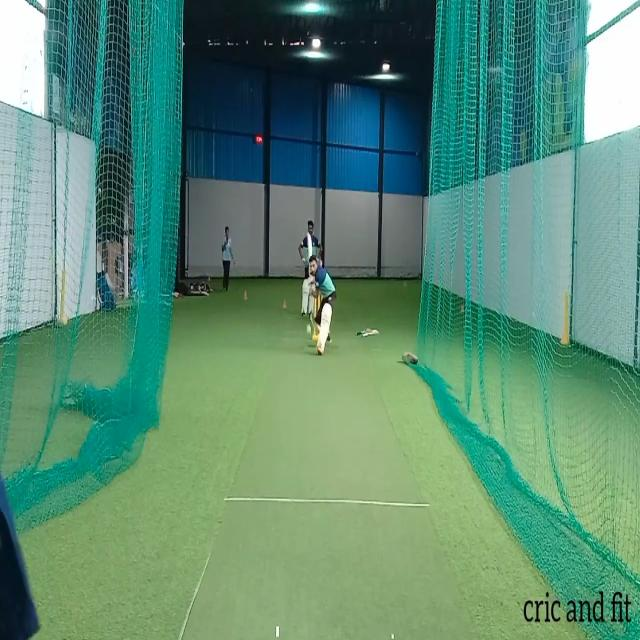batsman: (306, 232, 338, 356)
